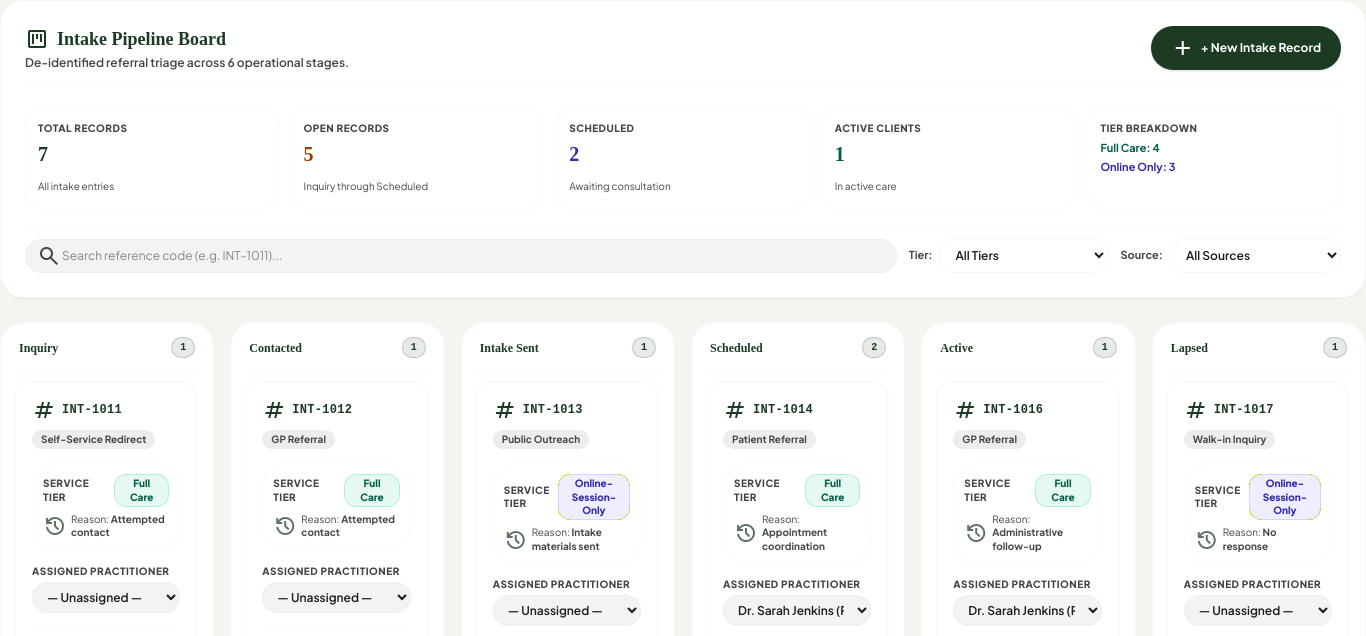
IntakePipelineBoard Component › allows manual practitioner assignment from clinic roster without algorithmic ranking
Expected: the text "INT-1011" is shown, [62,402,122,418]
Select "Marcus Vance (MS, LDN)" in the dropdown named "Assigned practitioner for INT-1011": (106,598) [32,582,180,613]
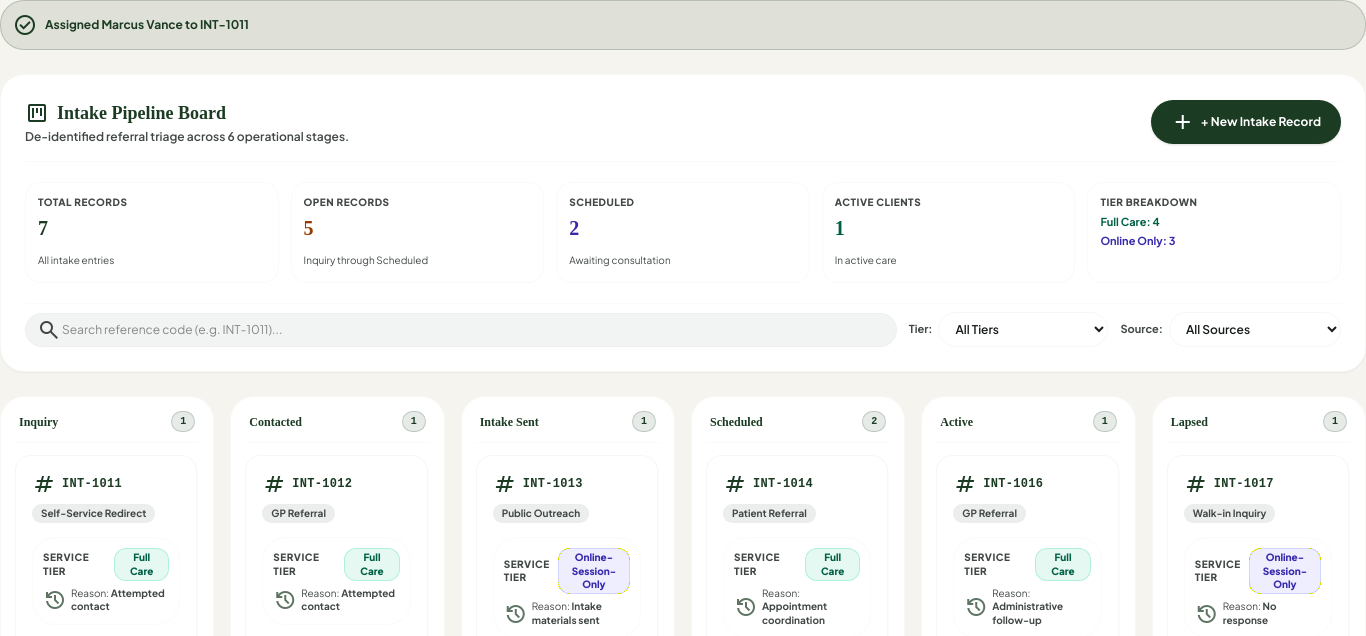
Expected: the text "INT-1011" is shown, [62,476,122,492]
Expected: the text "Assigned Marcus Vance to INT-1011" is shown, [45,17,249,33]
